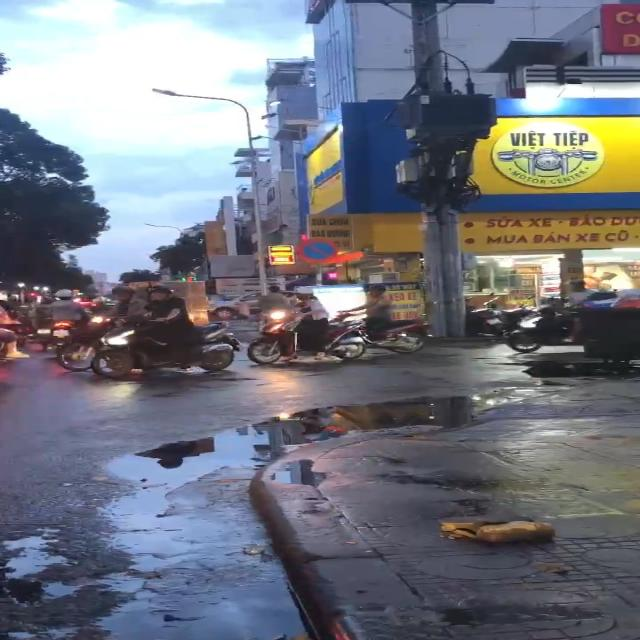Bien bao cam do xe: (292, 236, 346, 264)
